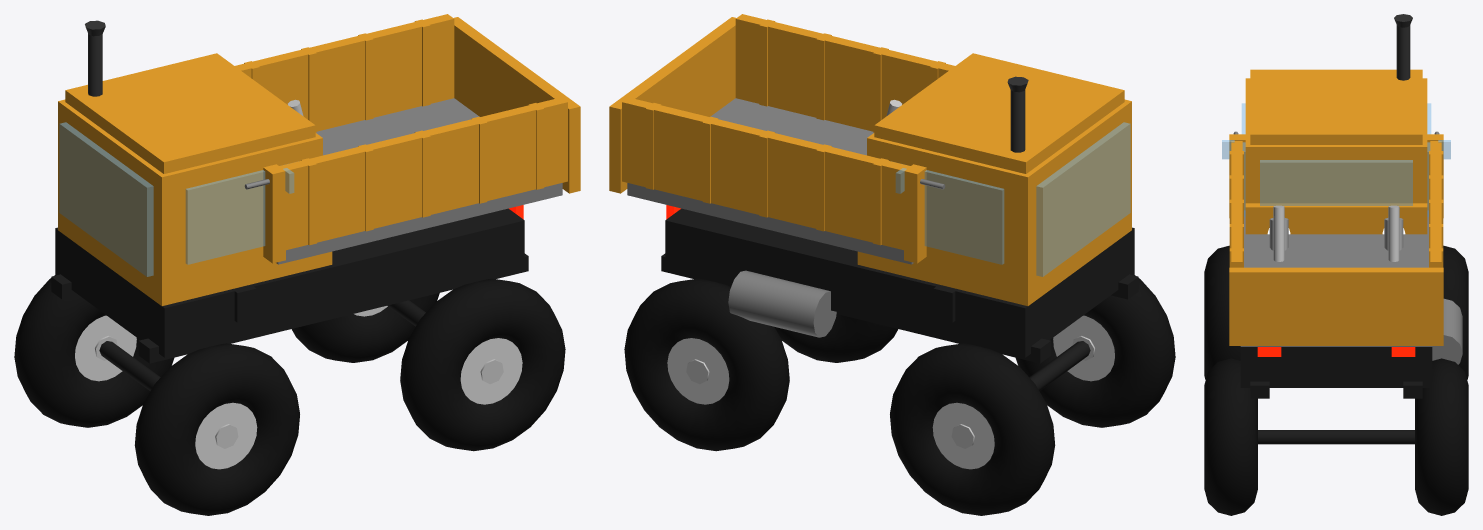
Rendered from robotic_dumper.glb.
3 views of the same model, side by side, from view 1: azimuth 30°, elevation 25°; view 2: azimuth 150°, elevation 25°; view 3: azimuth 270°, elevation 25° (orthographic). The views are drawn at different scales.
Visible parts, largest first — view 1: cab_body, chassis, bed_side_1.04, wheel_fr_tire, wheel_rr_tire, cab_roof, bed_side_-1.04, wheel_fl_tire, windshield_rear, bed_floor, tail_gate, side_window_0.96 (+18 smaller); view 2: cab_body, chassis, bed_side_-1.04, wheel_fl_tire, wheel_rl_tire, cab_roof, bed_side_1.04, wheel_fr_tire, windshield_rear, bed_floor, tail_gate, side_window_-0.96 (+19 smaller); view 3: tail_gate, cab_roof, cab_body, wheel_rr_tire, wheel_rl_tire, chassis, windshield_front, bed_floor, engine_hood, wheel_fr_tire, axle_1.4, wheel_fl_tire (+13 smaller).
Boxes of the visible parts, <box> form: cab_body: <box>58,99,322,305</box>; chassis: <box>55,208,524,357</box>; bed_side_1.04: <box>279,97,567,250</box>; wheel_fr_tire: <box>134,343,299,515</box>; wheel_rr_tire: <box>400,278,565,451</box>; cab_roof: <box>65,53,315,173</box>; bed_side_-1.04: <box>235,14,454,131</box>; wheel_fl_tire: <box>14,275,174,427</box>; windshield_rear: <box>59,122,153,276</box>; bed_floor: <box>276,98,562,264</box>; tail_gate: <box>453,17,580,193</box>; side_window_0.96: <box>185,170,265,264</box>; cab_body: <box>867,99,1131,305</box>; chassis: <box>665,208,1134,357</box>; bed_side_-1.04: <box>622,97,910,250</box>; wheel_fl_tire: <box>890,343,1055,515</box>; wheel_rl_tire: <box>624,278,789,451</box>; cab_roof: <box>874,53,1124,173</box>; bed_side_1.04: <box>735,14,954,131</box>; wheel_fr_tire: <box>1015,275,1175,427</box>; windshield_rear: <box>1036,122,1130,276</box>; bed_floor: <box>627,98,913,264</box>; tail_gate: <box>609,17,736,193</box>; side_window_-0.96: <box>924,170,1004,264</box>; tail_gate: <box>1229,267,1443,345</box>; cab_roof: <box>1250,69,1422,144</box>; cab_body: <box>1245,78,1427,203</box>; wheel_rr_tire: <box>1204,358,1257,515</box>; wheel_rl_tire: <box>1415,358,1468,515</box>; chassis: <box>1240,347,1432,387</box>; windshield_front: <box>1260,160,1412,205</box>; bed_floor: <box>1240,210,1432,346</box>; engine_hood: <box>1245,203,1427,234</box>; wheel_fr_tire: <box>1204,245,1240,379</box>; axle_1.4: <box>1258,430,1414,444</box>; wheel_fl_tire: <box>1443,245,1468,379</box>.
Size of the model in its own units: 4.65 by 4.24 by 2.76.
